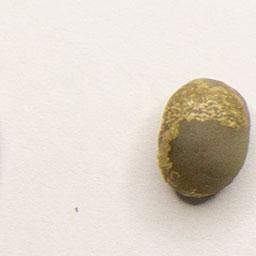peaberry: (155, 75, 253, 201)
